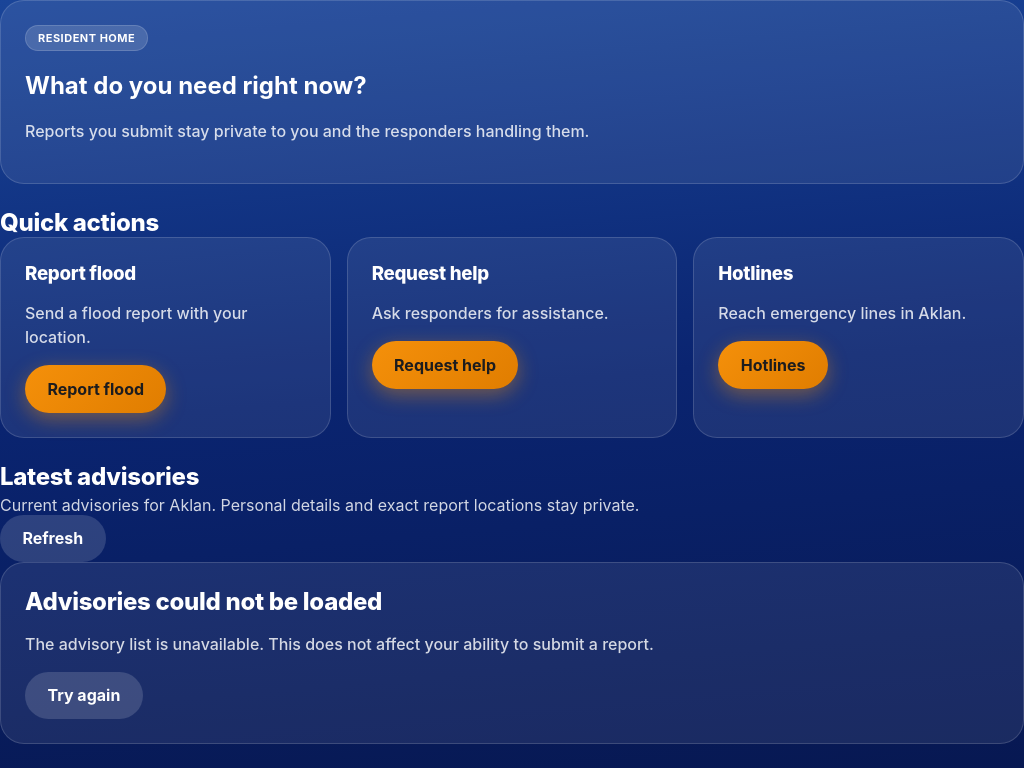
Test case: resident home › offers a retry after a failed load
Click the button "Try again": (84, 695) [25,672,143,719]
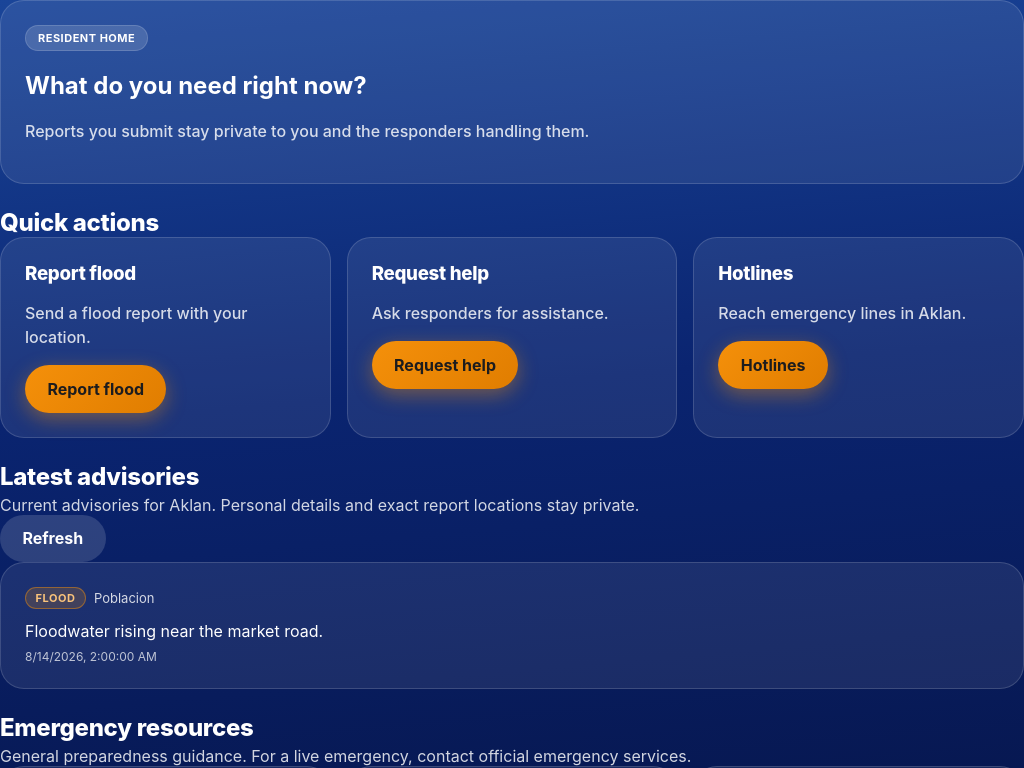
Check: the text "Floodwater rising near the market road." is shown, box [25,621,323,641]
